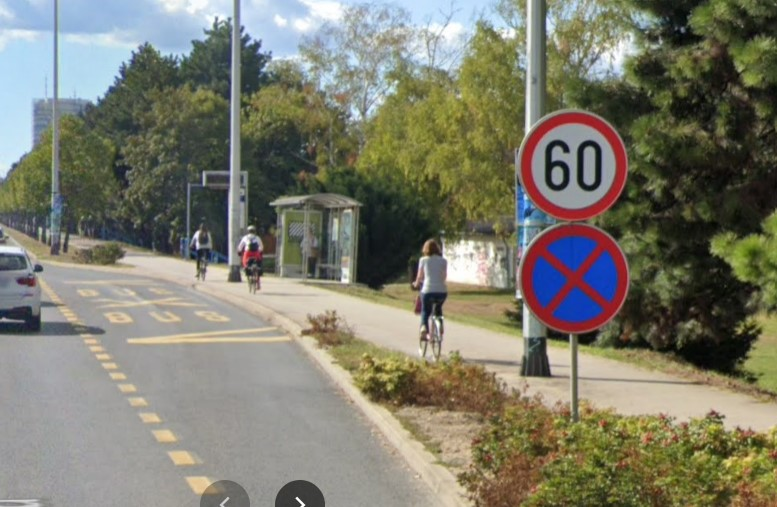Ograničenje brzine 60: (518, 109, 628, 220)
